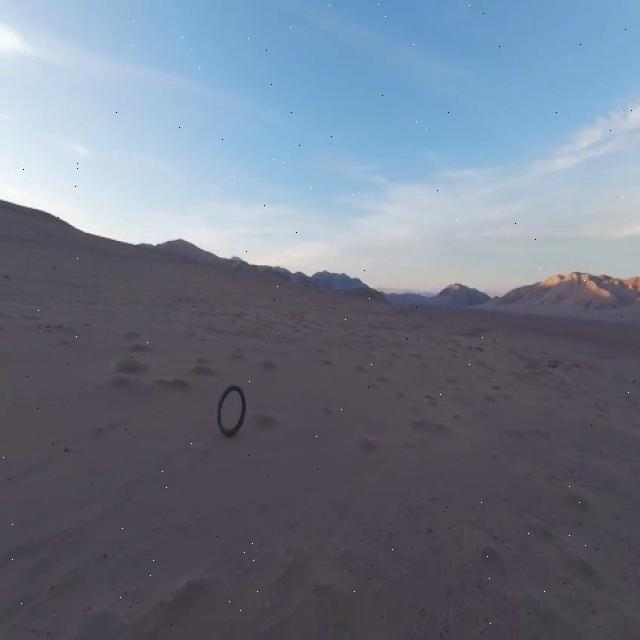Tire: (218, 386, 246, 436)
